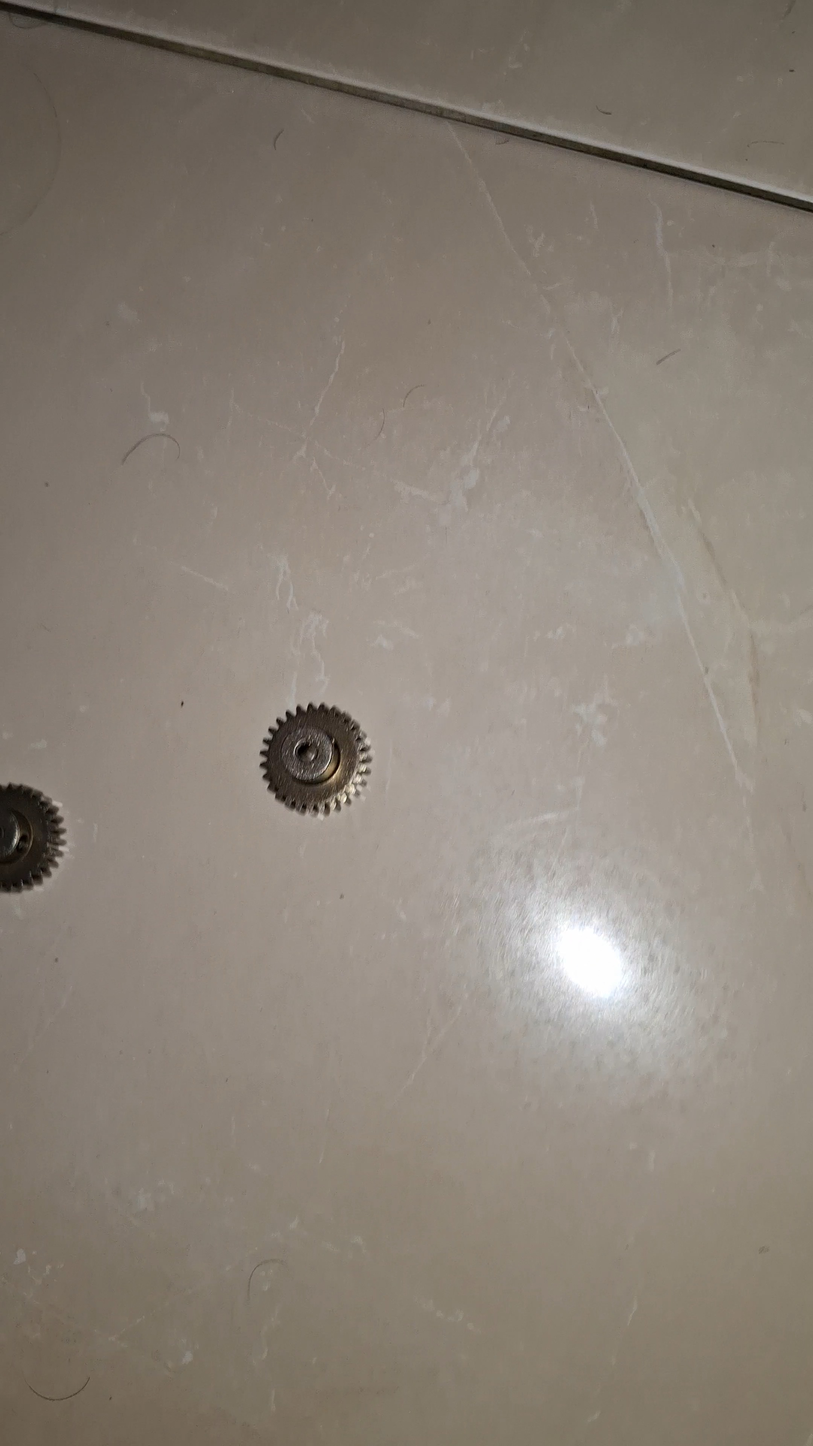spur gear: (261, 704, 371, 815), (0, 784, 64, 890)
